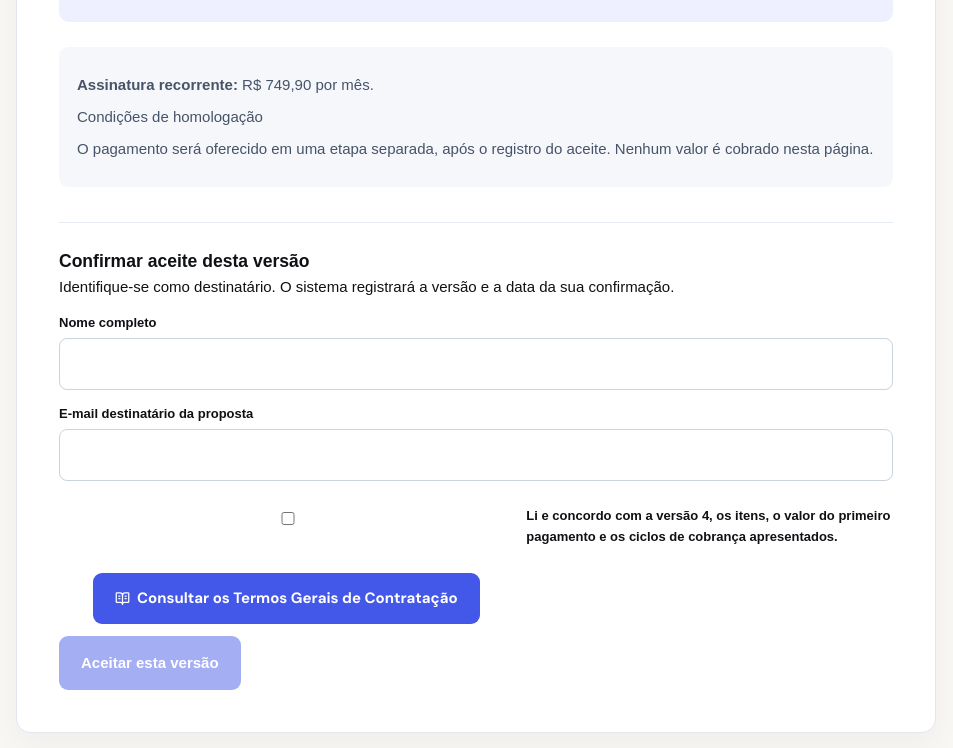
Scenario: jornada pública da proposta — sem SMTP ou pagamentos reais › consulta por token e só aceita com identidade, termos e hash do snapshot
(page scrolled)
Check: the button "Aceitar esta versão" is disabled, box [59, 636, 241, 690]
Step 1. Type "Cliente Autorizado" into the field labelled "Nome completo" → {"x": 476, "y": 364}, box [59, 338, 893, 390]
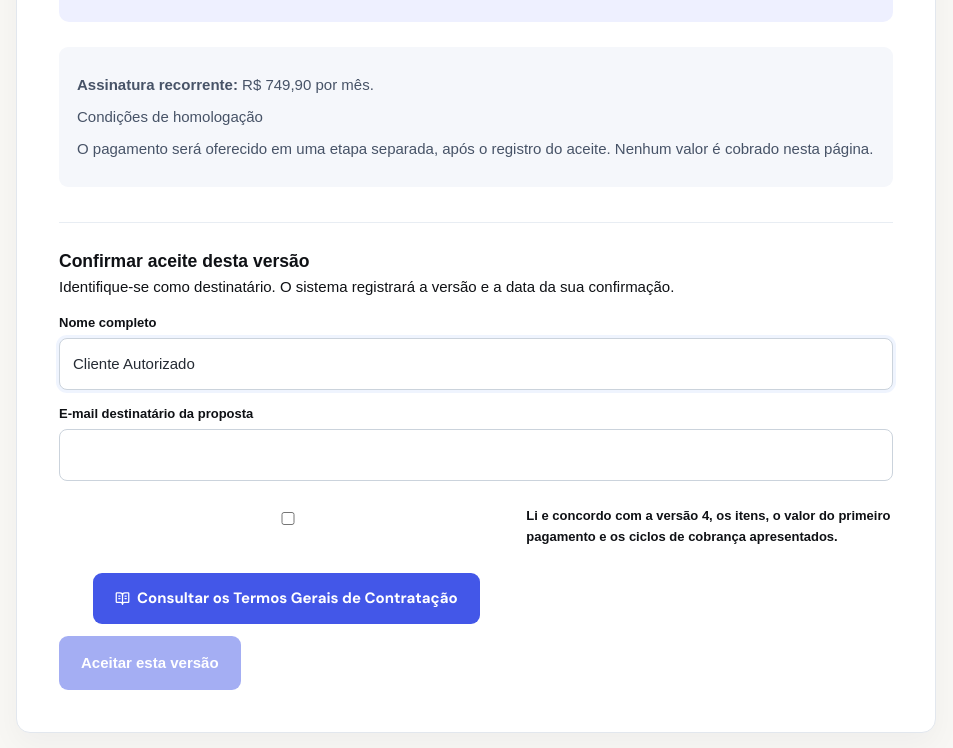
Step 2. Type "qa@example.invalid" into the field labelled "E-mail destinatário da proposta" → {"x": 476, "y": 455}, box [59, 429, 893, 481]
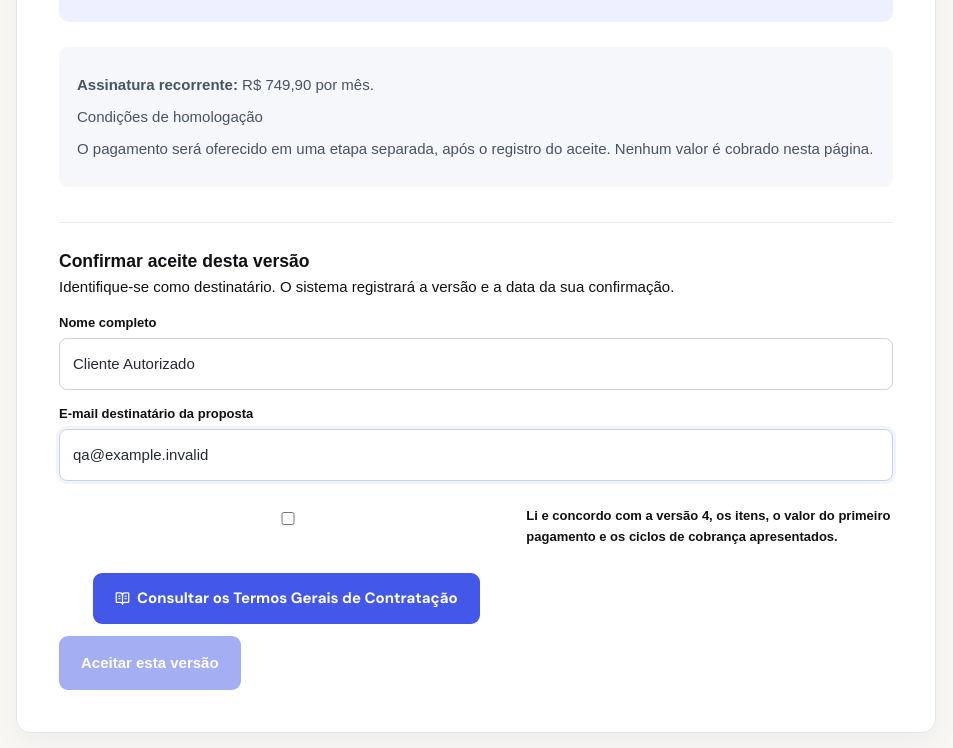
Check: the button "Aceitar esta versão" is disabled, box [59, 636, 241, 690]
Step 3. Click the checkbox → {"x": 288, "y": 518}, box [63, 512, 513, 525]
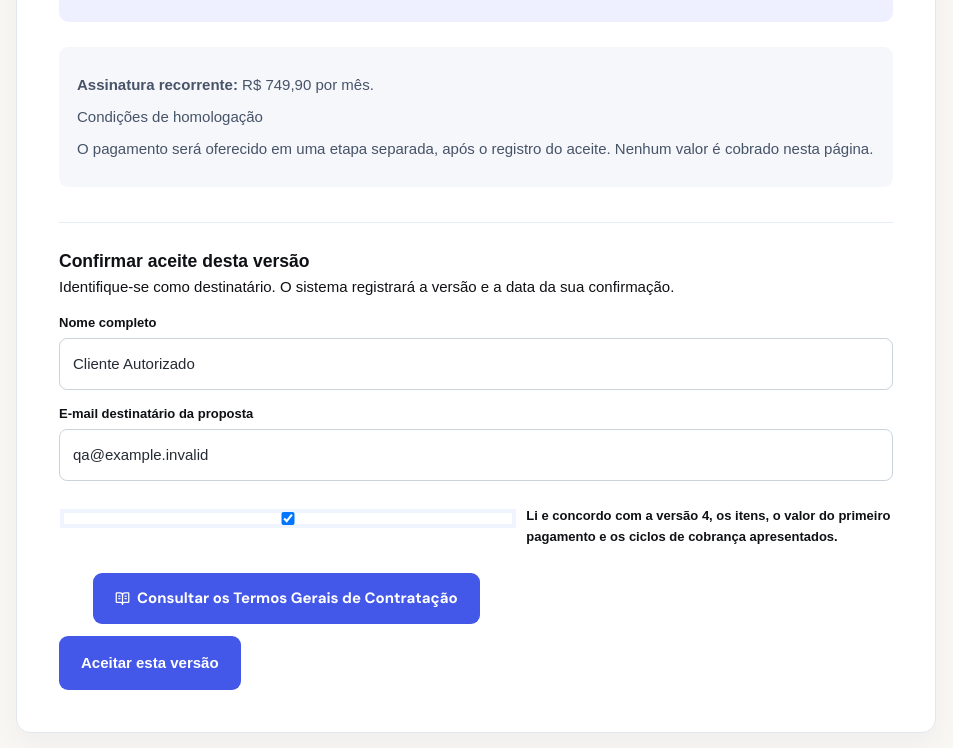
Step 4. Click the button "Aceitar esta versão" → {"x": 150, "y": 663}, box [59, 636, 241, 690]
(page scrolled)
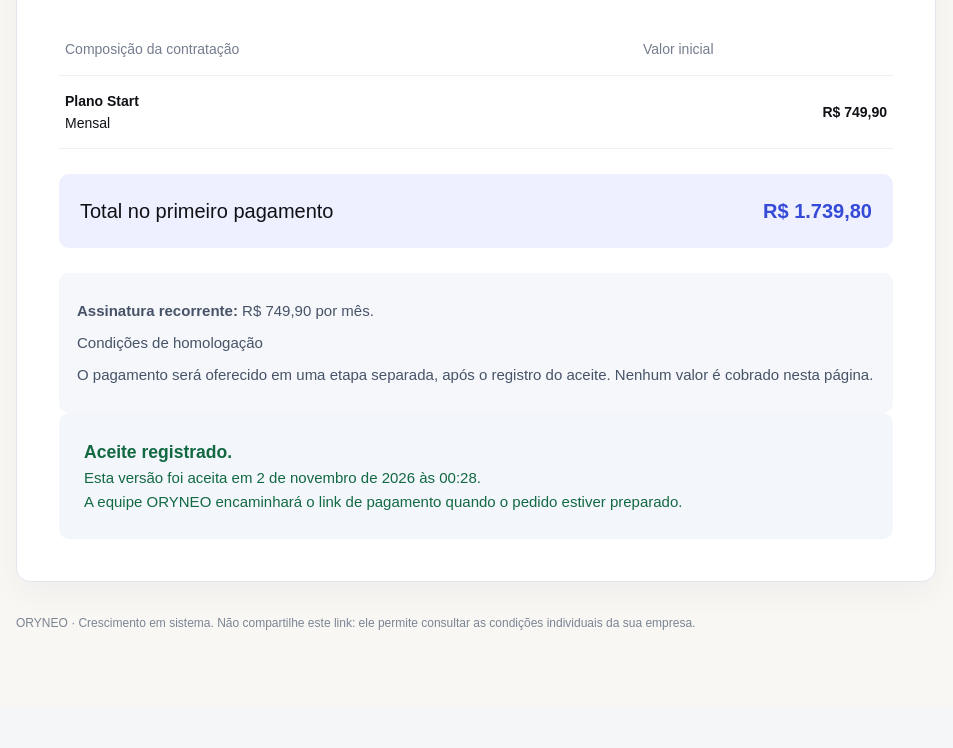
Check: the heading "Aceite registrado." is shown, box [84, 442, 232, 462]
Check: the button "Aceitar esta versão" is gone
